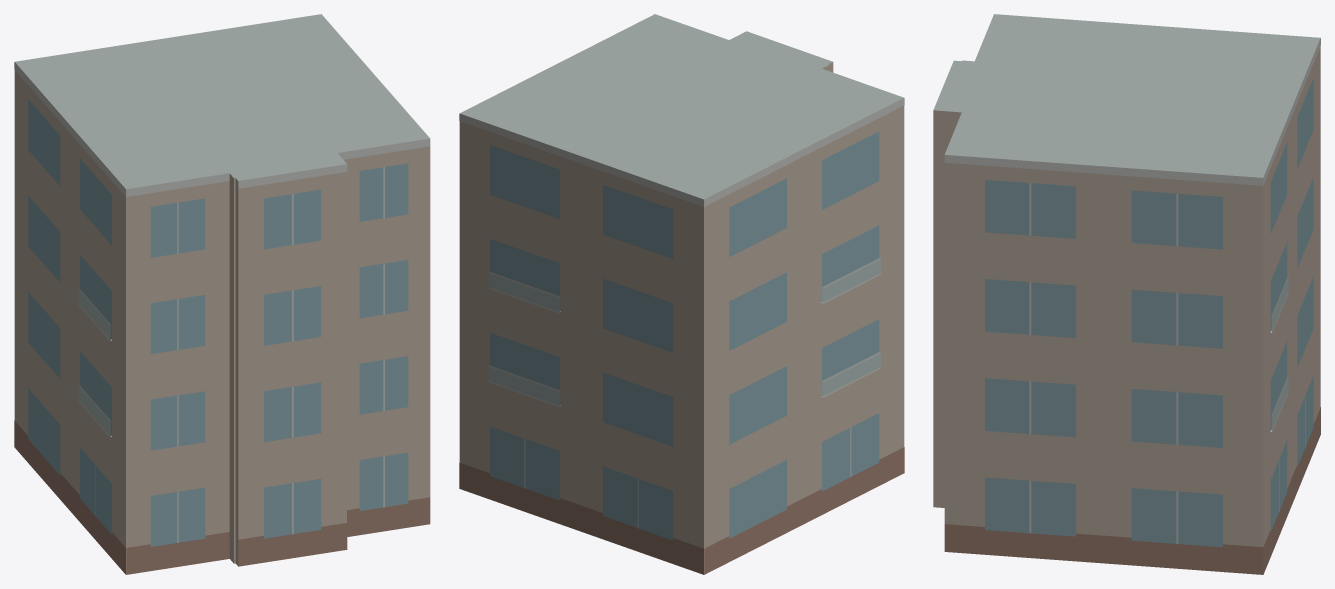
The model's file is survey-upis-32807994.glb.
3 renders of one model, left to right at view 1: azimuth 30°, elevation 25°; view 2: azimuth 150°, elevation 25°; view 3: azimuth 270°, elevation 25°, orthographic. The views are drawn at different scales.
Parts seen in each view (by area): view 1: survey-upis-32807994.tmp; view 2: survey-upis-32807994.tmp; view 3: survey-upis-32807994.tmp.
Part boxes in pixels (left/top/right/bottom): survey-upis-32807994.tmp: left=14, top=14, right=430, bottom=574; survey-upis-32807994.tmp: left=459, top=14, right=904, bottom=574; survey-upis-32807994.tmp: left=933, top=14, right=1320, bottom=574.
Bounding box in the file's own units: 10.81 × 12.2 × 10.8.
